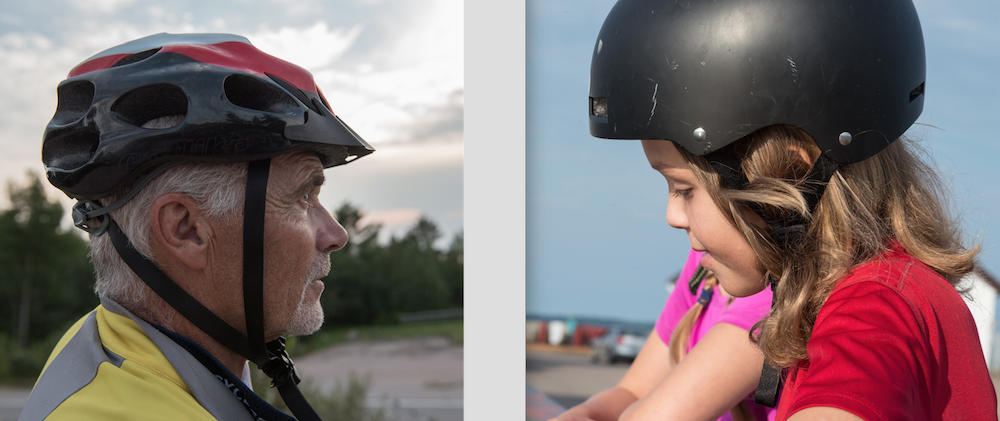helmet: (42, 32, 376, 336), (587, 1, 926, 297)
